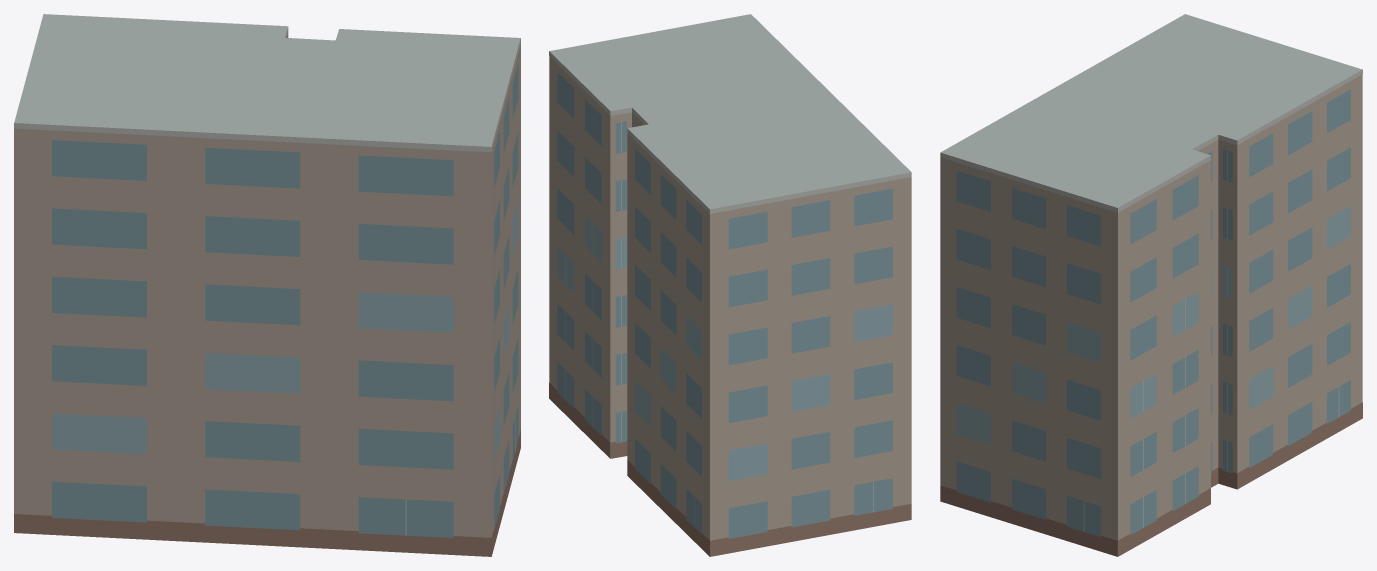
The model's file is survey-upis-32985108.glb.
3 views of the same model, side by side, from view 1: azimuth 30°, elevation 25°; view 2: azimuth 150°, elevation 25°; view 3: azimuth 270°, elevation 25° (orthographic). The views are drawn at different scales.
Visible parts, largest first — view 1: survey-upis-32985108.tmp; view 2: survey-upis-32985108.tmp; view 3: survey-upis-32985108.tmp.
Boxes of the visible parts, x1,y1,x2,y2 form: survey-upis-32985108.tmp: (14, 14, 520, 556); survey-upis-32985108.tmp: (549, 14, 911, 556); survey-upis-32985108.tmp: (940, 14, 1362, 556).
Size of the model in its own units: 21.59 by 18.1 by 19.87.
